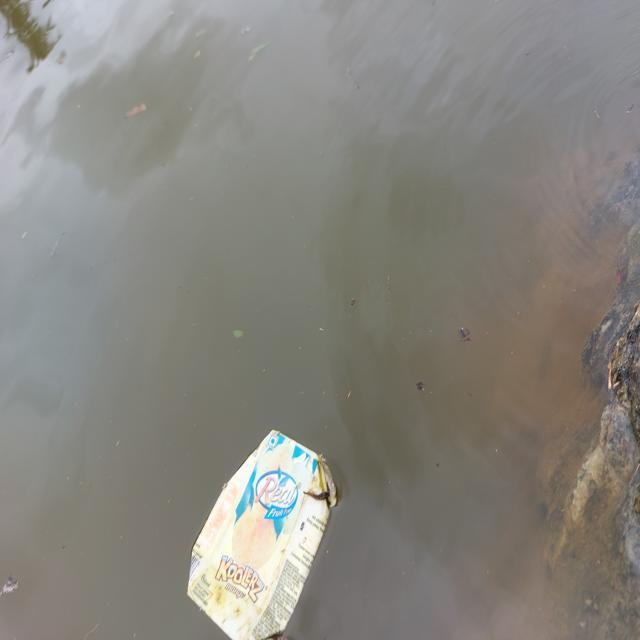paper: (175, 427, 356, 640)
